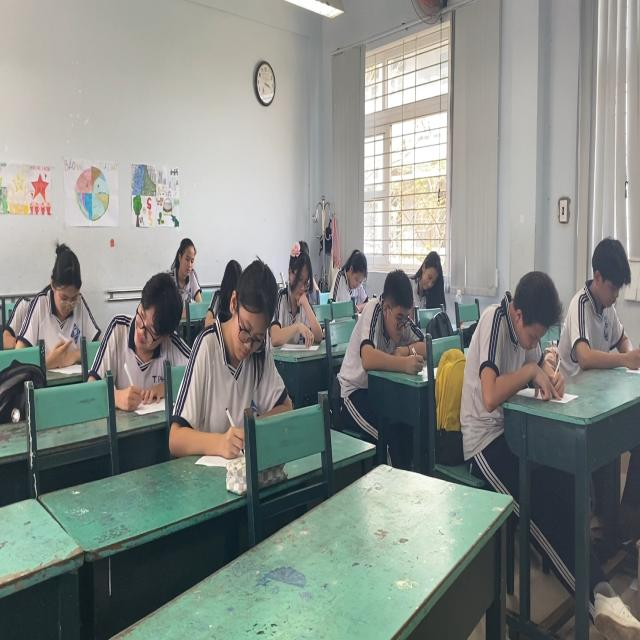cheating: (106, 268, 190, 388)
not_cheating: (454, 261, 564, 412), (197, 257, 282, 423), (574, 236, 640, 361), (28, 239, 98, 351), (366, 270, 422, 370), (275, 243, 321, 340), (318, 225, 370, 305), (410, 240, 446, 312), (165, 233, 199, 298)
